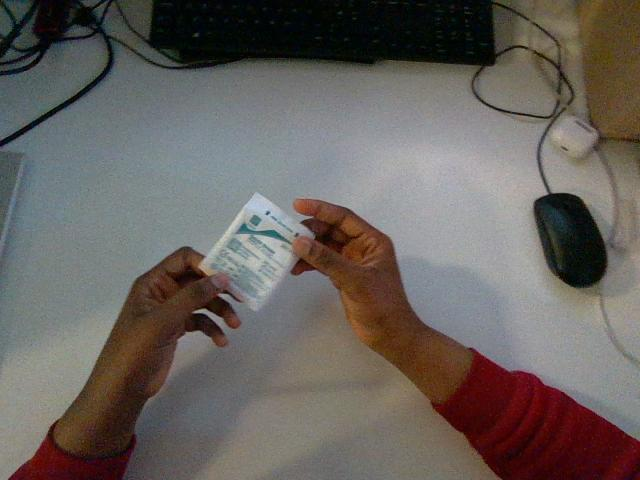gauze: (199, 193, 312, 310)
